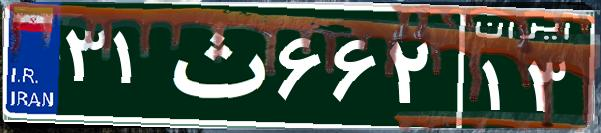1: (475, 38, 525, 113), (110, 28, 158, 105)
2: (385, 28, 445, 110)
3: (57, 26, 110, 107), (525, 38, 570, 115)
6: (273, 28, 330, 110), (330, 28, 385, 110)
ث: (158, 15, 273, 115)
